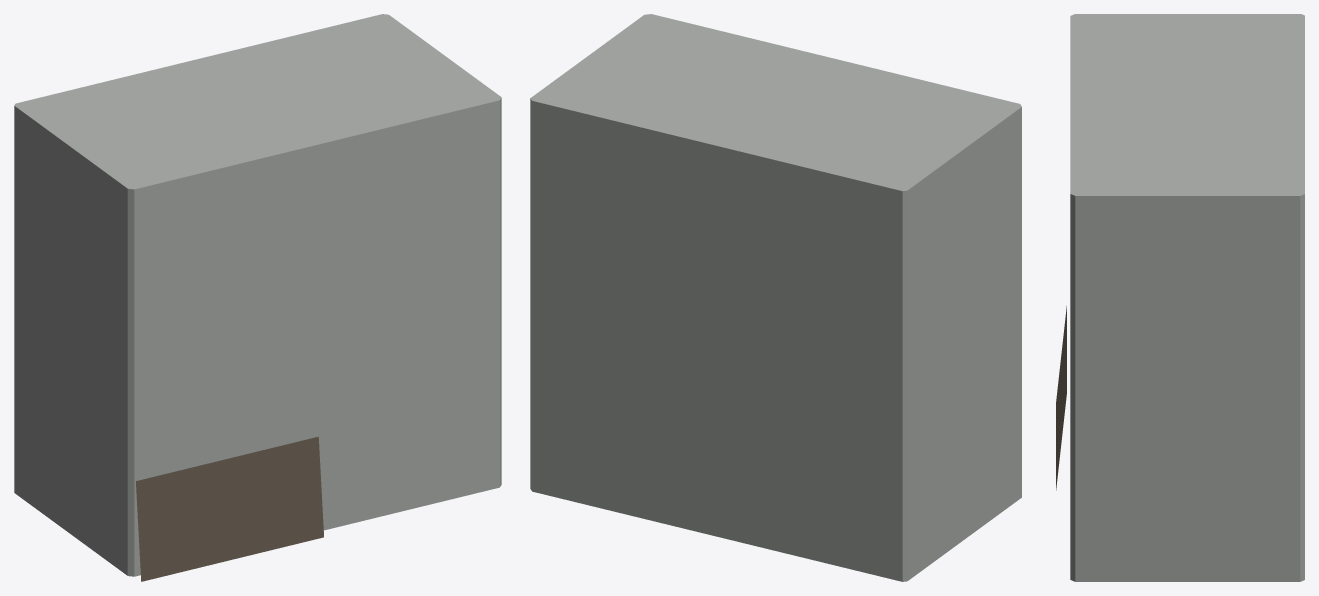
The model's file is loin-etape-1.glb.
The picture shows the model from 3 angles, left to right: view 1: azimuth 30°, elevation 25°; view 2: azimuth 150°, elevation 25°; view 3: azimuth 270°, elevation 25°; orthographic projection.
Parts seen in each view (by area): view 1: loin; view 2: loin; view 3: loin.
Part boxes in pixels (x1,y1,x2,y2): loin: [14, 14, 501, 581]; loin: [530, 14, 1021, 581]; loin: [1056, 14, 1304, 581].
Bounding box in the file's own units: 0.5648 × 0.5586 × 0.3262.
